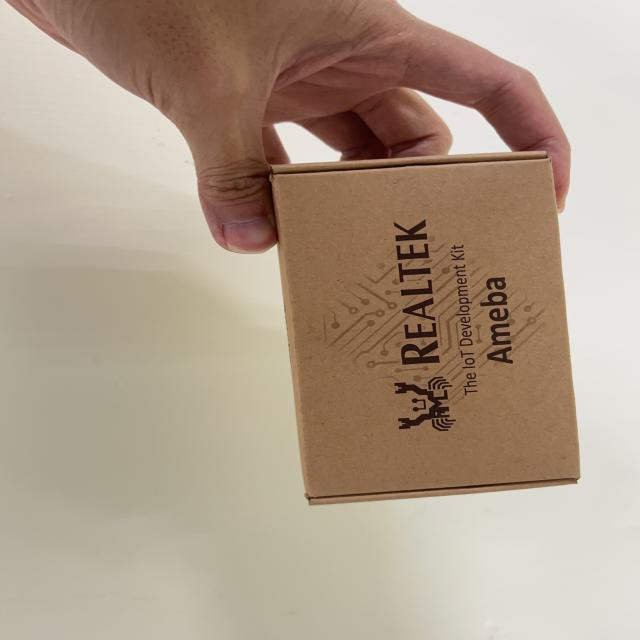box: (254, 143, 599, 520)
